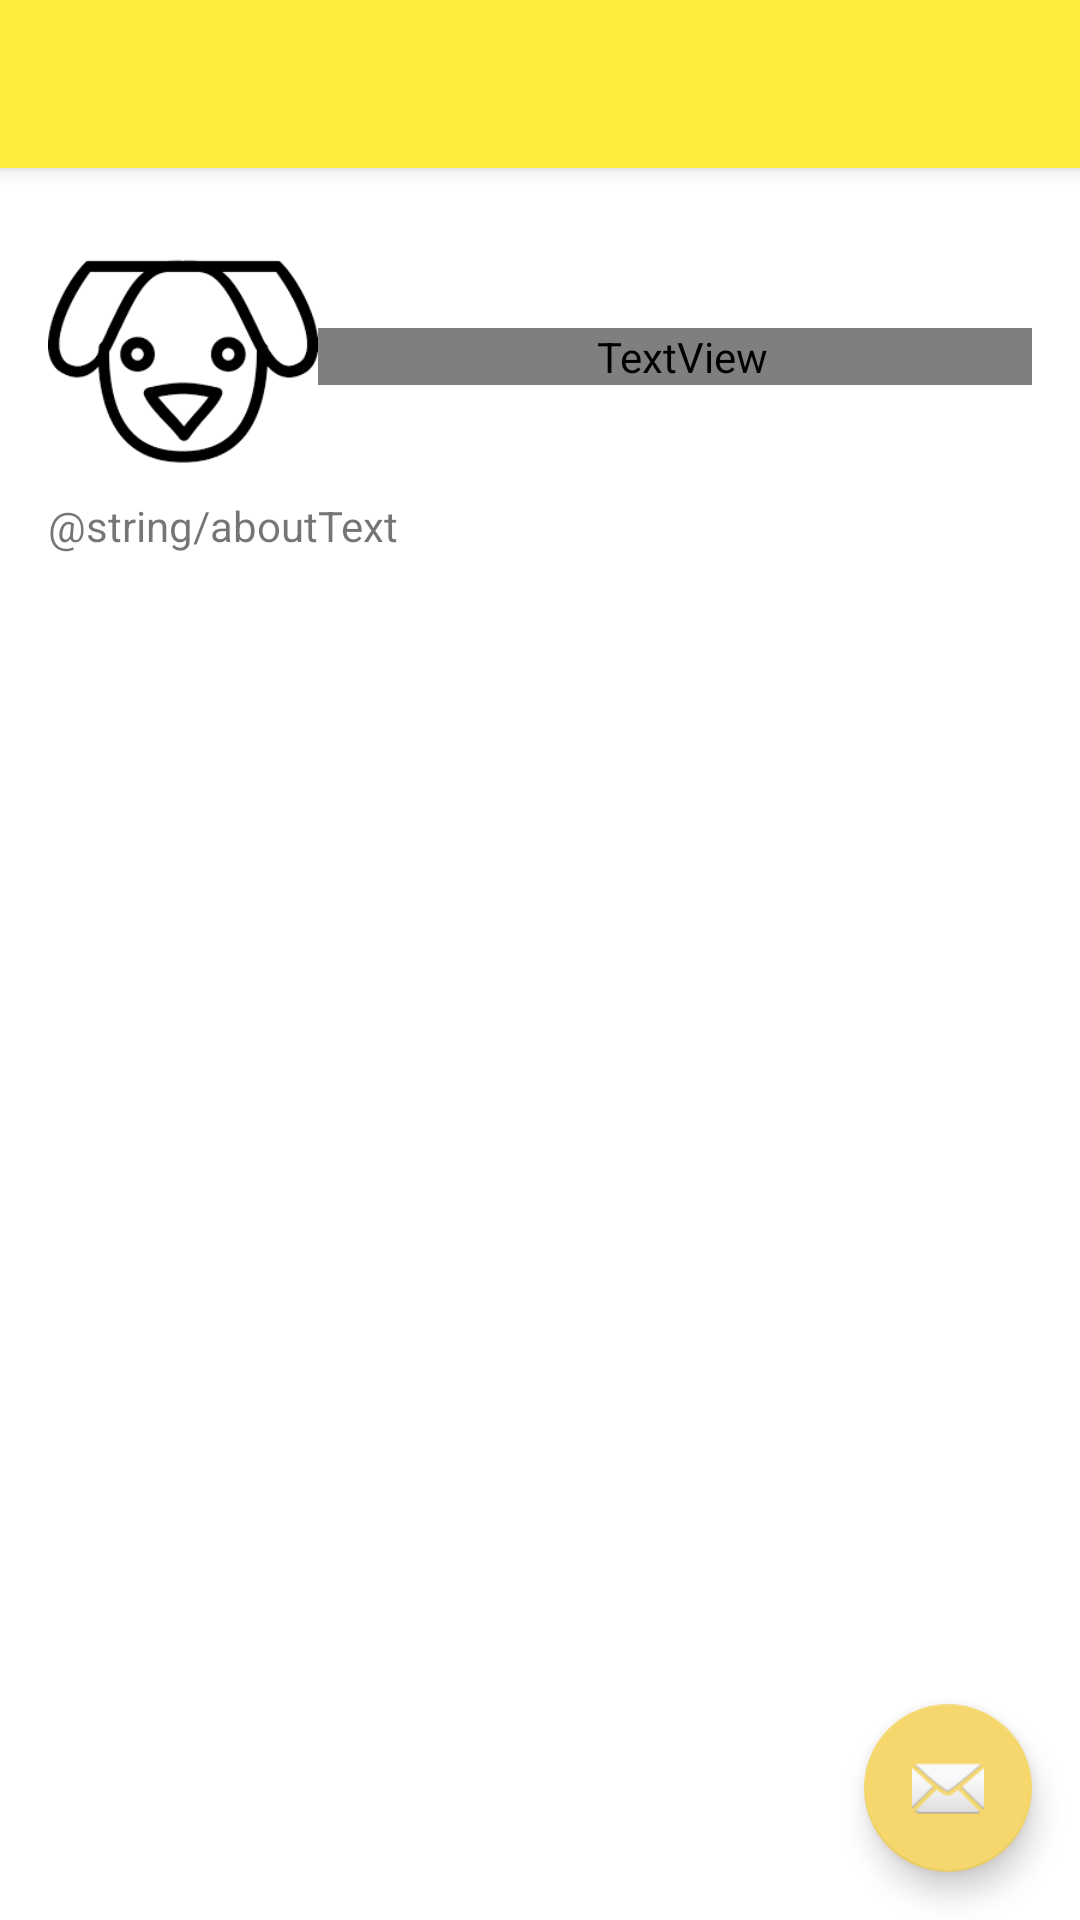

Where to tap for icons on this 1080px x 1920px app screen, as [x,y]:
dog: [183,361]
email: [948,1788]
